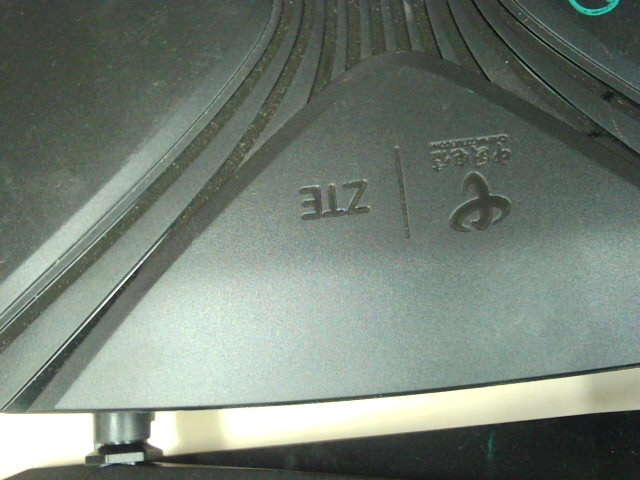AX_ZTEChinaTelecom: (295, 133, 523, 234)
